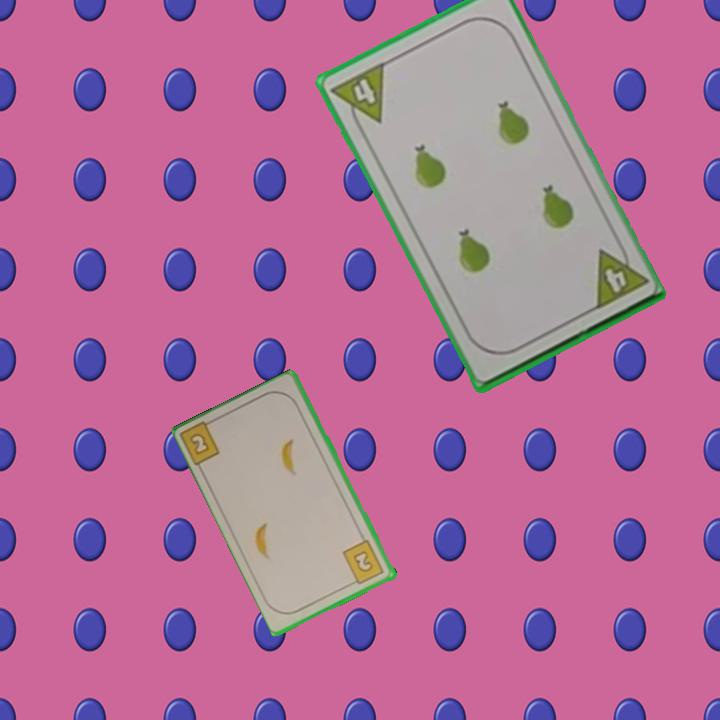2b: (178, 415, 223, 470), (340, 536, 387, 587)
4p: (327, 58, 387, 135), (589, 238, 650, 313)
